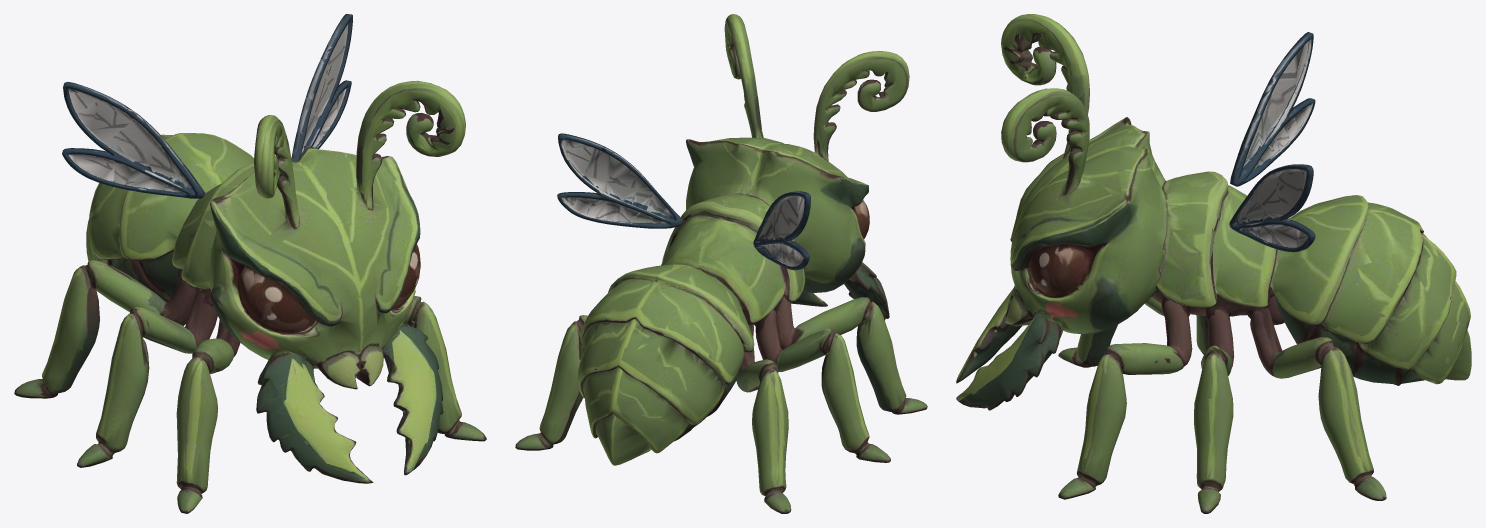
Rendered from marchleaf.glb.
The picture shows the model from 3 angles, left to right: view 1: azimuth 30°, elevation 25°; view 2: azimuth 150°, elevation 25°; view 3: azimuth 270°, elevation 25°; orthographic projection. The views are drawn at different scales.
Parts seen in each view (by area): view 1: Mesh_0; view 2: Mesh_0; view 3: Mesh_0.
Part boxes in pixels (left/top/right/bottom): Mesh_0: left=14, top=14, right=486, bottom=513; Mesh_0: left=515, top=14, right=927, bottom=513; Mesh_0: left=956, top=14, right=1471, bottom=513.
Size of the model in its own units: 1.52 by 1.51 by 1.89.
1 material, 1 textured.
